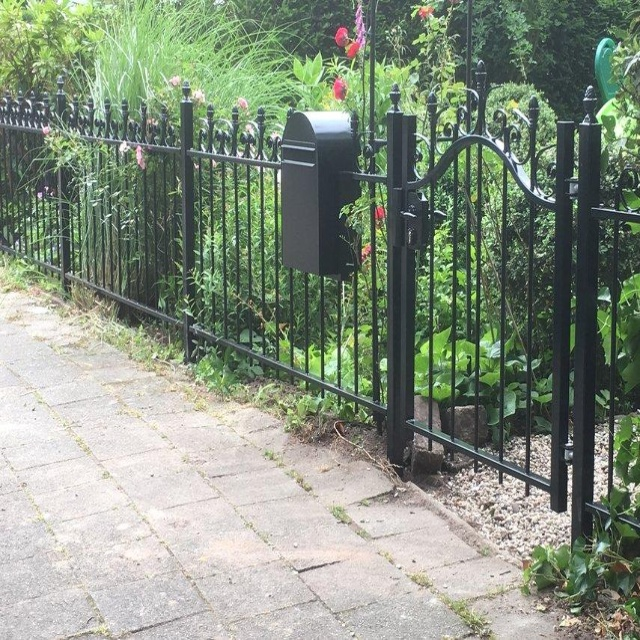obstacle: (0, 123, 640, 638)
